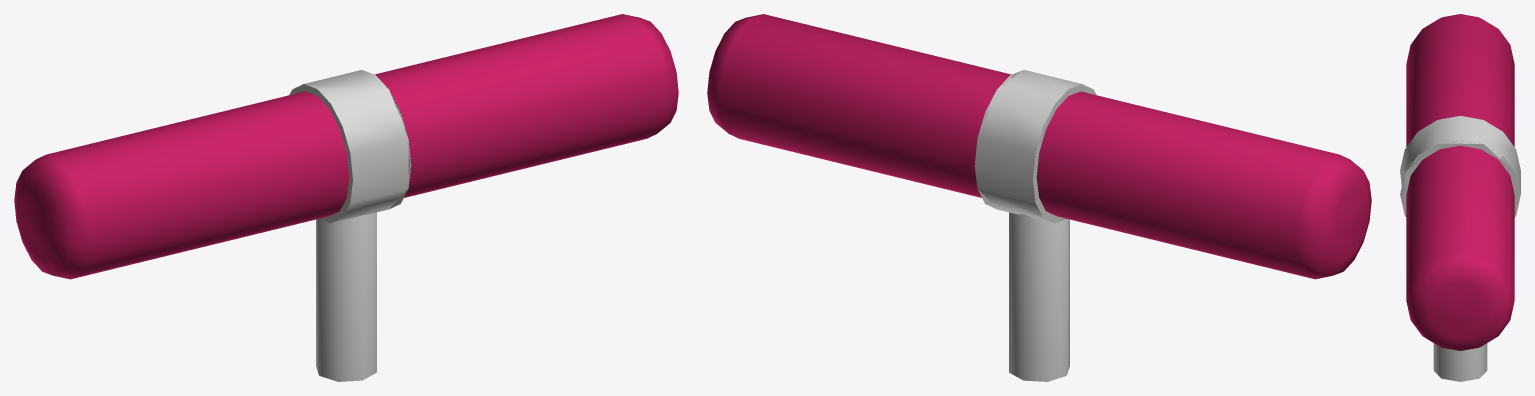
The model's file is rotation_pink.fbx.
The picture shows the model from 3 angles, left to right: view 1: azimuth 30°, elevation 25°; view 2: azimuth 150°, elevation 25°; view 3: azimuth 270°, elevation 25°; orthographic projection. The views are drawn at different scales.
Parts seen in each view (by area): view 1: rotation_pink; view 2: rotation_pink; view 3: rotation_pink.
Boxes of the visible parts, <box> form: rotation_pink: <box>14,14,678,381</box>; rotation_pink: <box>707,14,1371,381</box>; rotation_pink: <box>1400,14,1520,381</box>.
Size of the model in its own units: 0.6028 by 0.2659 by 0.1199.
